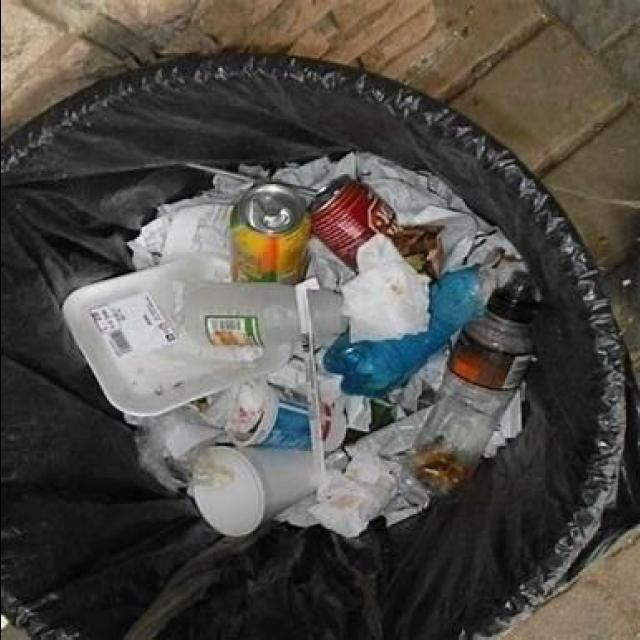Garbage: (62, 153, 539, 538)
Plastic_Container: (61, 262, 299, 416), (306, 289, 344, 342)
Plastic_bottle: (405, 271, 538, 494), (322, 268, 481, 396)
can: (308, 176, 441, 276), (230, 184, 309, 282)
